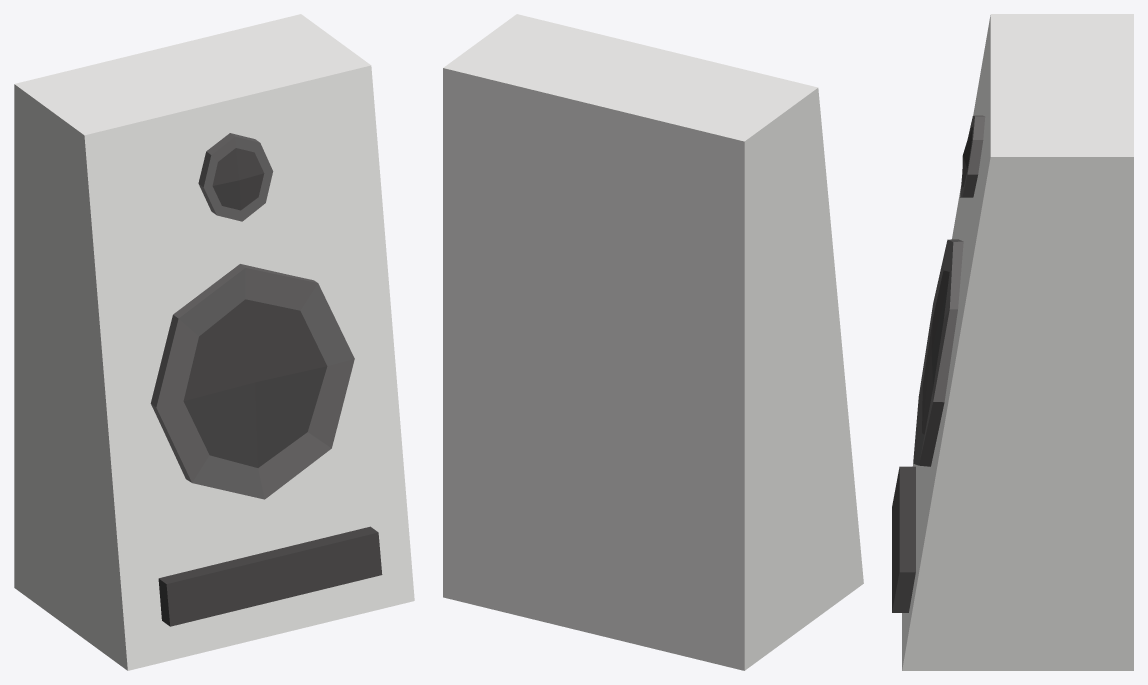
The model's file is Speaker_1.fbx.
3 renders of one model, left to right at view 1: azimuth 30°, elevation 25°; view 2: azimuth 150°, elevation 25°; view 3: azimuth 270°, elevation 25°, orthographic. The views are drawn at different scales.
Visible parts, largest first — view 1: Speaker_1; view 2: Speaker_1; view 3: Speaker_1.
Part boxes in pixels (box(x1,y1,x2,y2)): Speaker_1: box(14, 14, 414, 670); Speaker_1: box(443, 14, 863, 670); Speaker_1: box(892, 14, 1133, 670).
Size of the model in its own units: 8.33 by 5.96 by 13.98.
